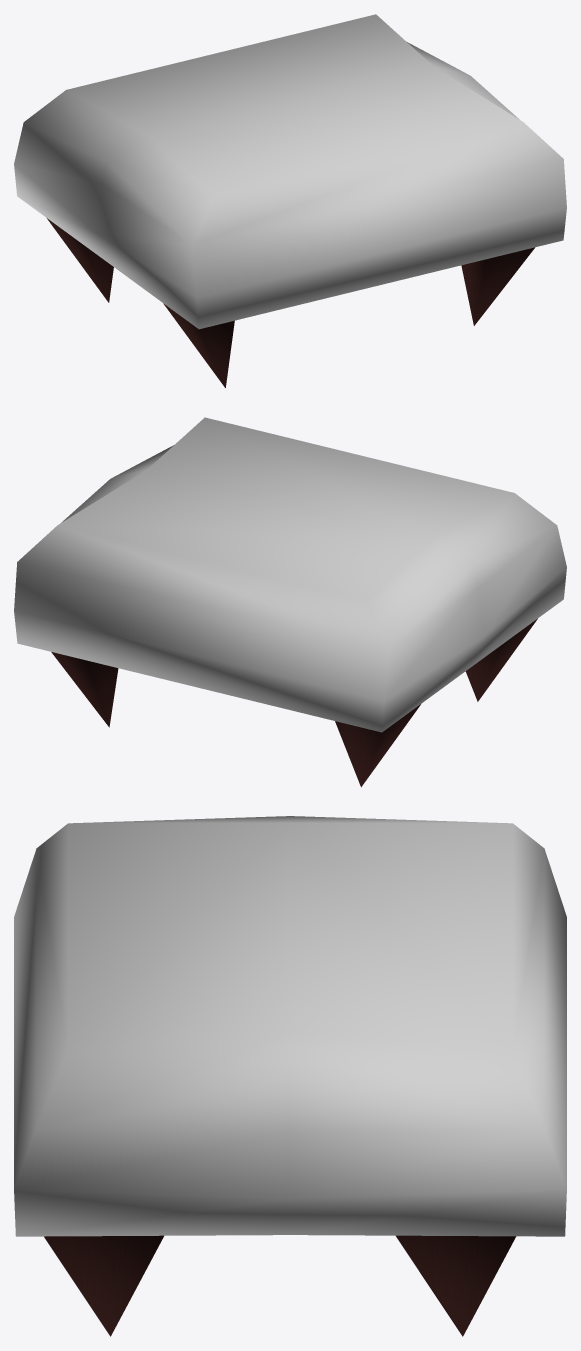
The model's file is WA_Footstool_A.FBX.
3 renders of one model, top to bottom at view 1: azimuth 30°, elevation 25°; view 2: azimuth 150°, elevation 25°; view 3: azimuth 270°, elevation 25°, orthographic. The views are drawn at different scales.
Parts seen in each view (by area): view 1: Footstool; view 2: Footstool; view 3: Footstool.
Part boxes in pixels (bbox=[...]): Footstool: bbox=[14, 14, 566, 387]; Footstool: bbox=[14, 417, 566, 787]; Footstool: bbox=[14, 816, 566, 1336].
Bounding box in the file's own units: 127 × 65.76 × 103.
